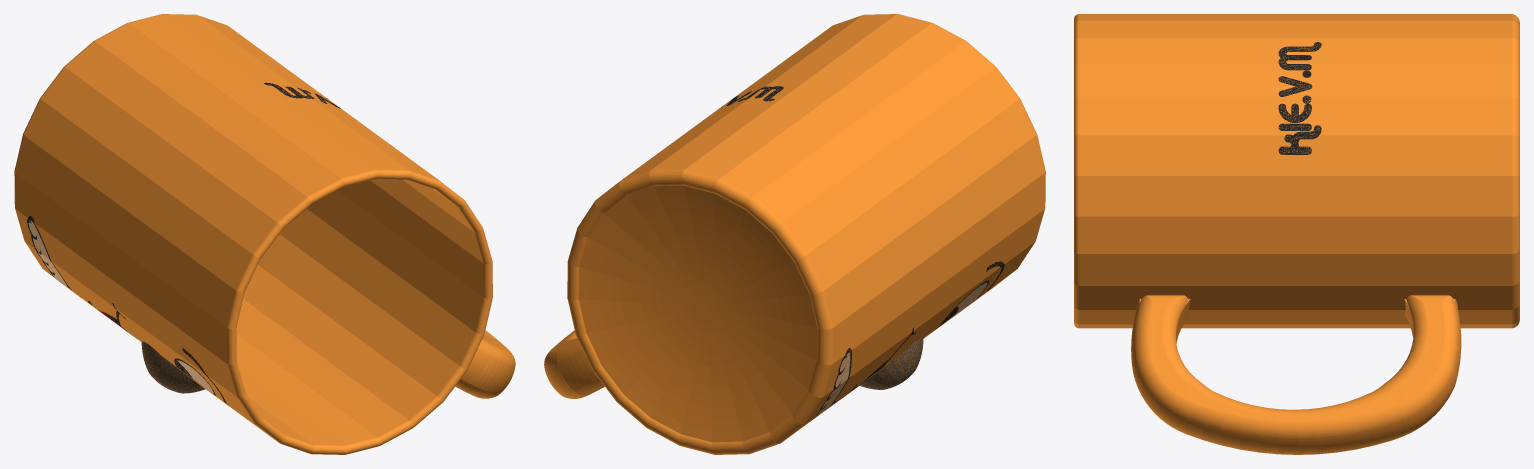
3 renders of one model, left to right at view 1: azimuth 30°, elevation 25°; view 2: azimuth 150°, elevation 25°; view 3: azimuth 270°, elevation 25°, orthographic. The views are drawn at different scales.
Visible parts, largest first — view 1: tea cup; view 2: tea cup; view 3: tea cup.
Boxes of the visible parts, x1,y1,x2,y2 form: tea cup: [14, 14, 515, 454]; tea cup: [544, 14, 1045, 454]; tea cup: [1074, 14, 1519, 454].
Bounding box in the file's own units: 263 × 225 × 280.
